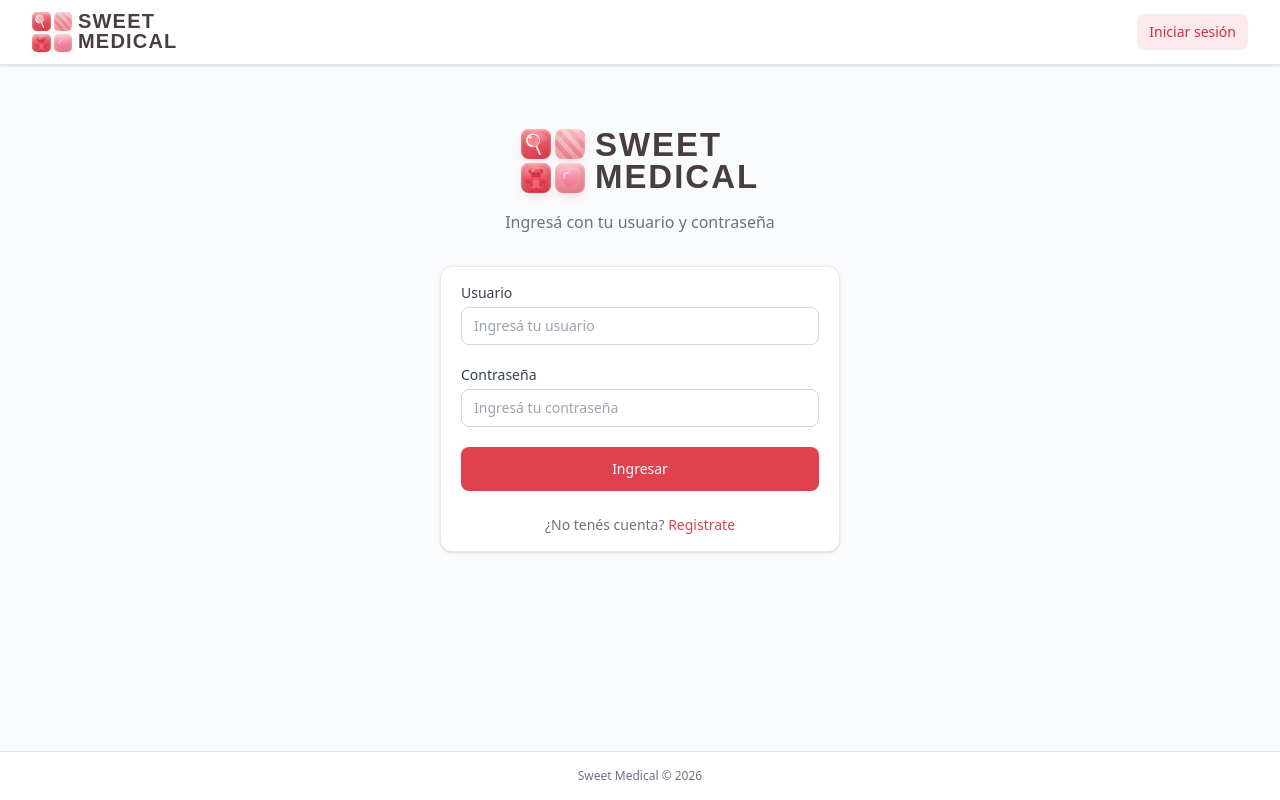
it: Login › muestra error si se intenta ingresar con campos vacíos
Step 1. Click the submit button → (640,469), box [461,447,819,491]
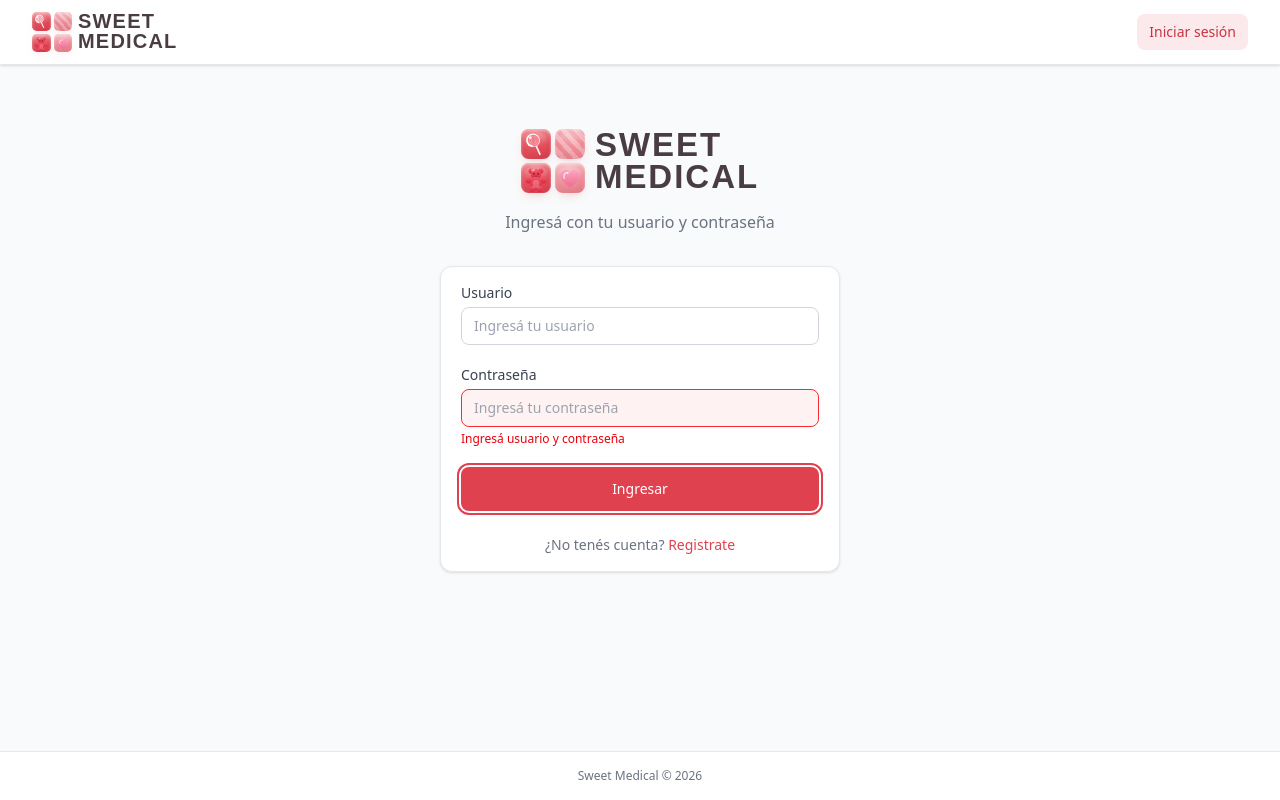
Check: the text "Ingresá usuario y contraseña" is shown, box [461,430,625,447]
